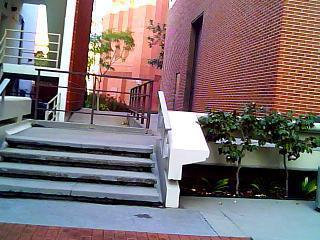Escaleras: (2, 136, 160, 210)
